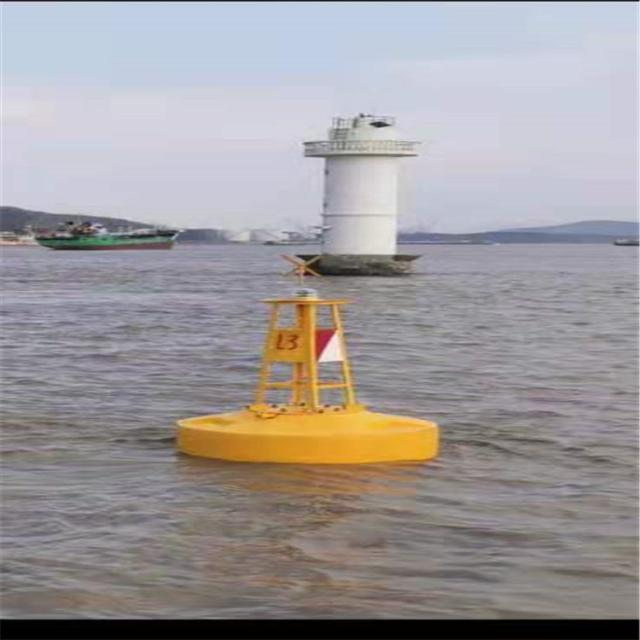buoy: (179, 253, 426, 469)
